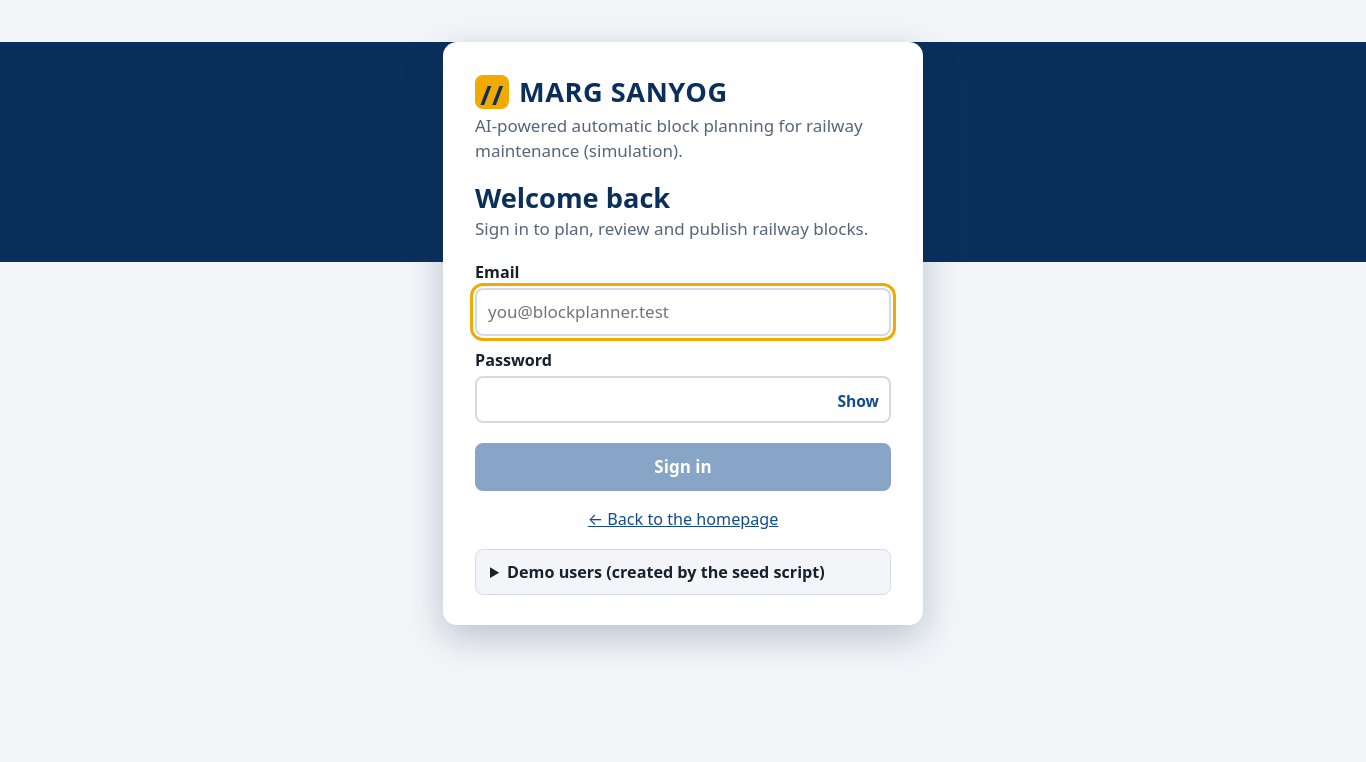
Test: login page › fills the email from a demo user
Click the heading "Demo users (created by the seed script)". click: x=666, y=572
box: top-left (507, 561), bottom-right (825, 583)
(page scrolled)
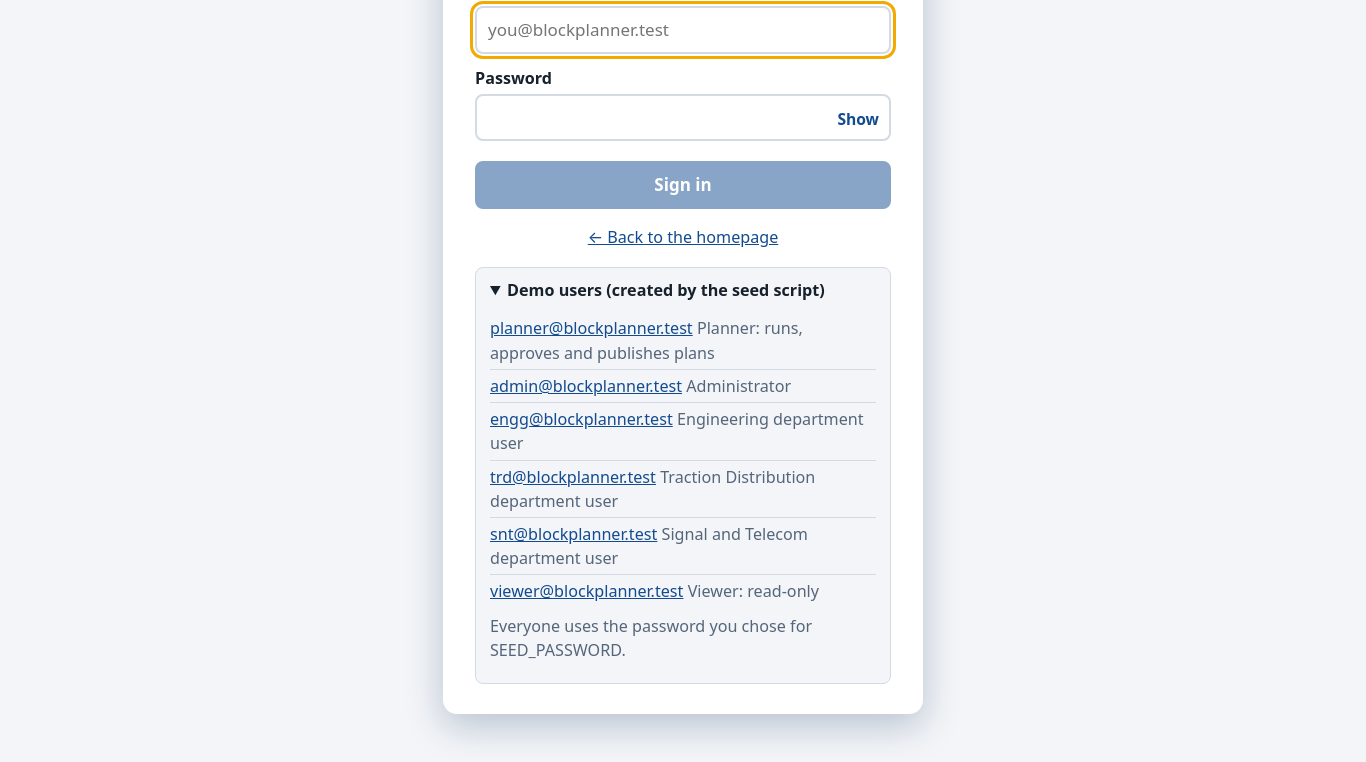
Click the button "viewer@blockplanner.test". click: x=587, y=592
box: top-left (490, 580), bottom-right (683, 604)
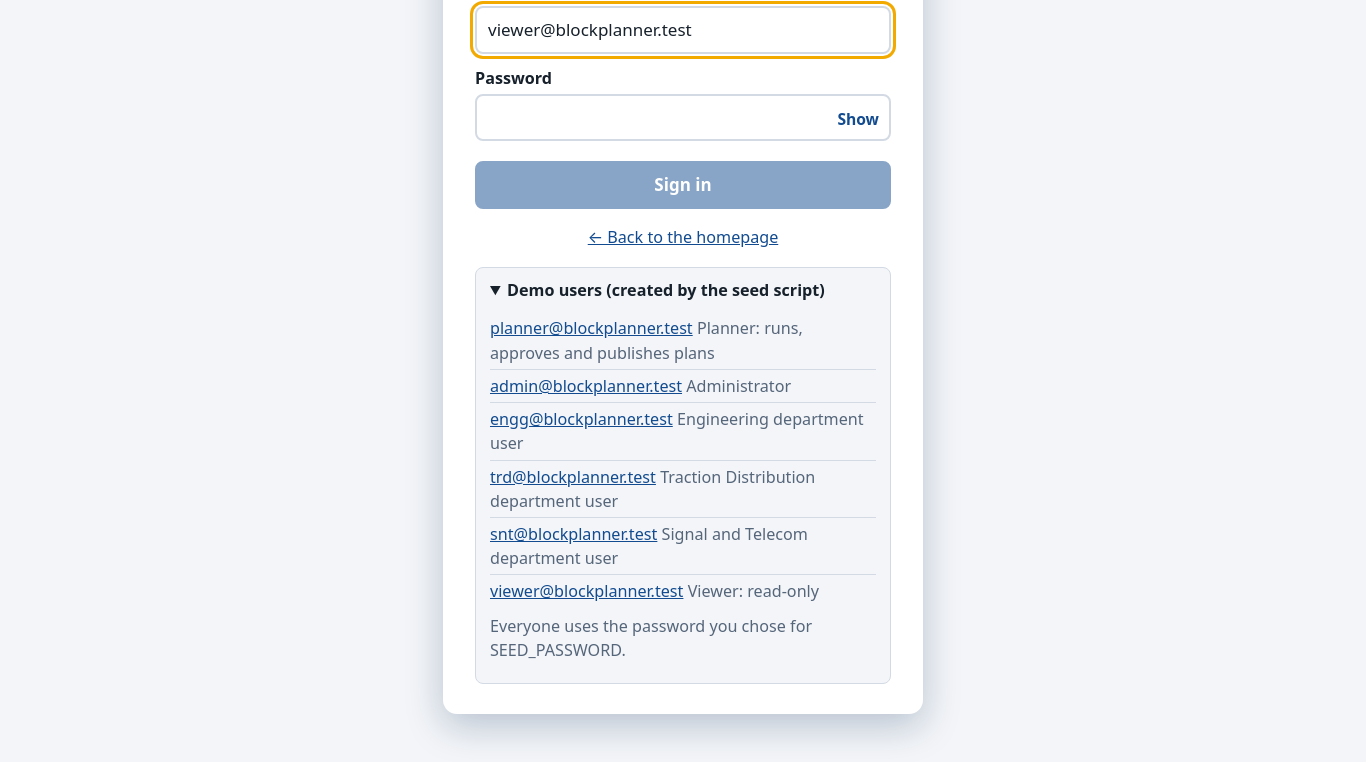
Expected: the field labelled "Email" holds "viewer@blockplanner.test", top-left (475, 6), bottom-right (891, 54)
